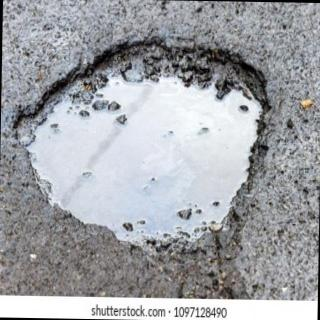pothole: (14, 39, 270, 242)
